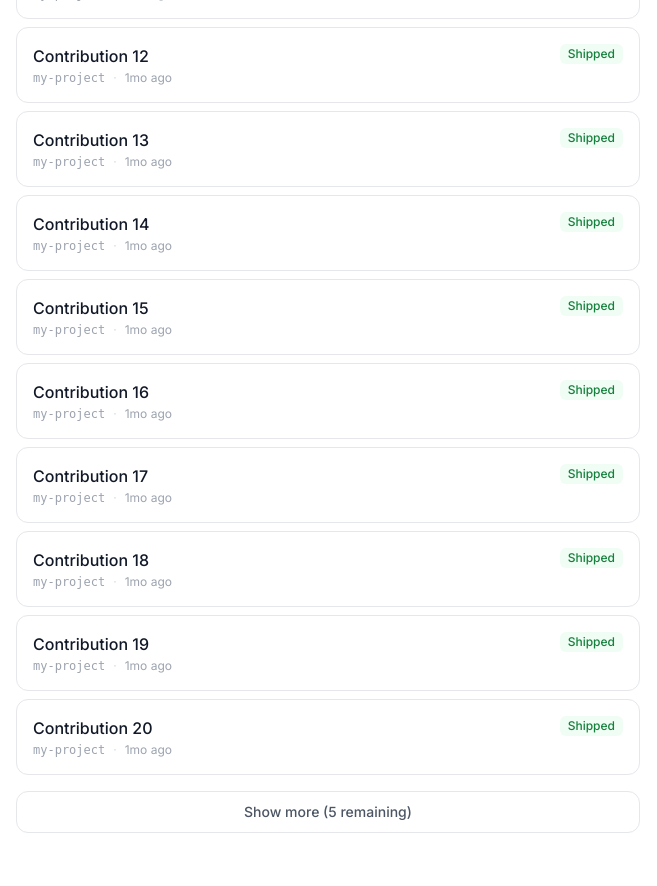
Test: PublicProfilePage › Show more button reveals additional contributions when clicked
(page scrolled)
Expected: the text "Contribution 21" is not shown
What coordinates should you click on to do the following:
click the button "Show more (5 remaining)"
I would click on:
 (328, 812)
Its box is x1=16 y1=791 x2=640 y2=833.
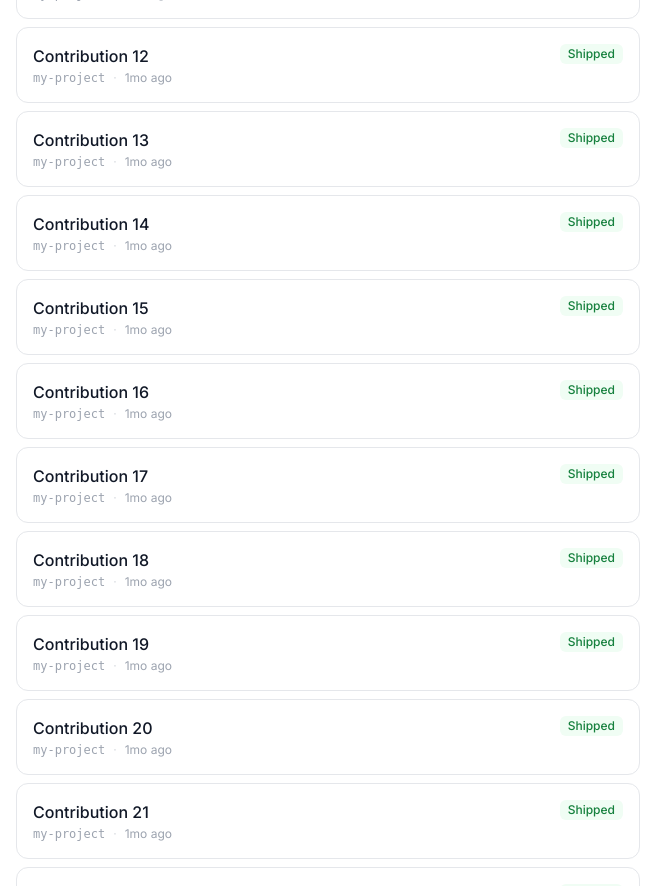
Now the heading "Contribution 21" is shown, box x1=33 y1=802 x2=149 y2=822
Now the button "Show more" is gone
